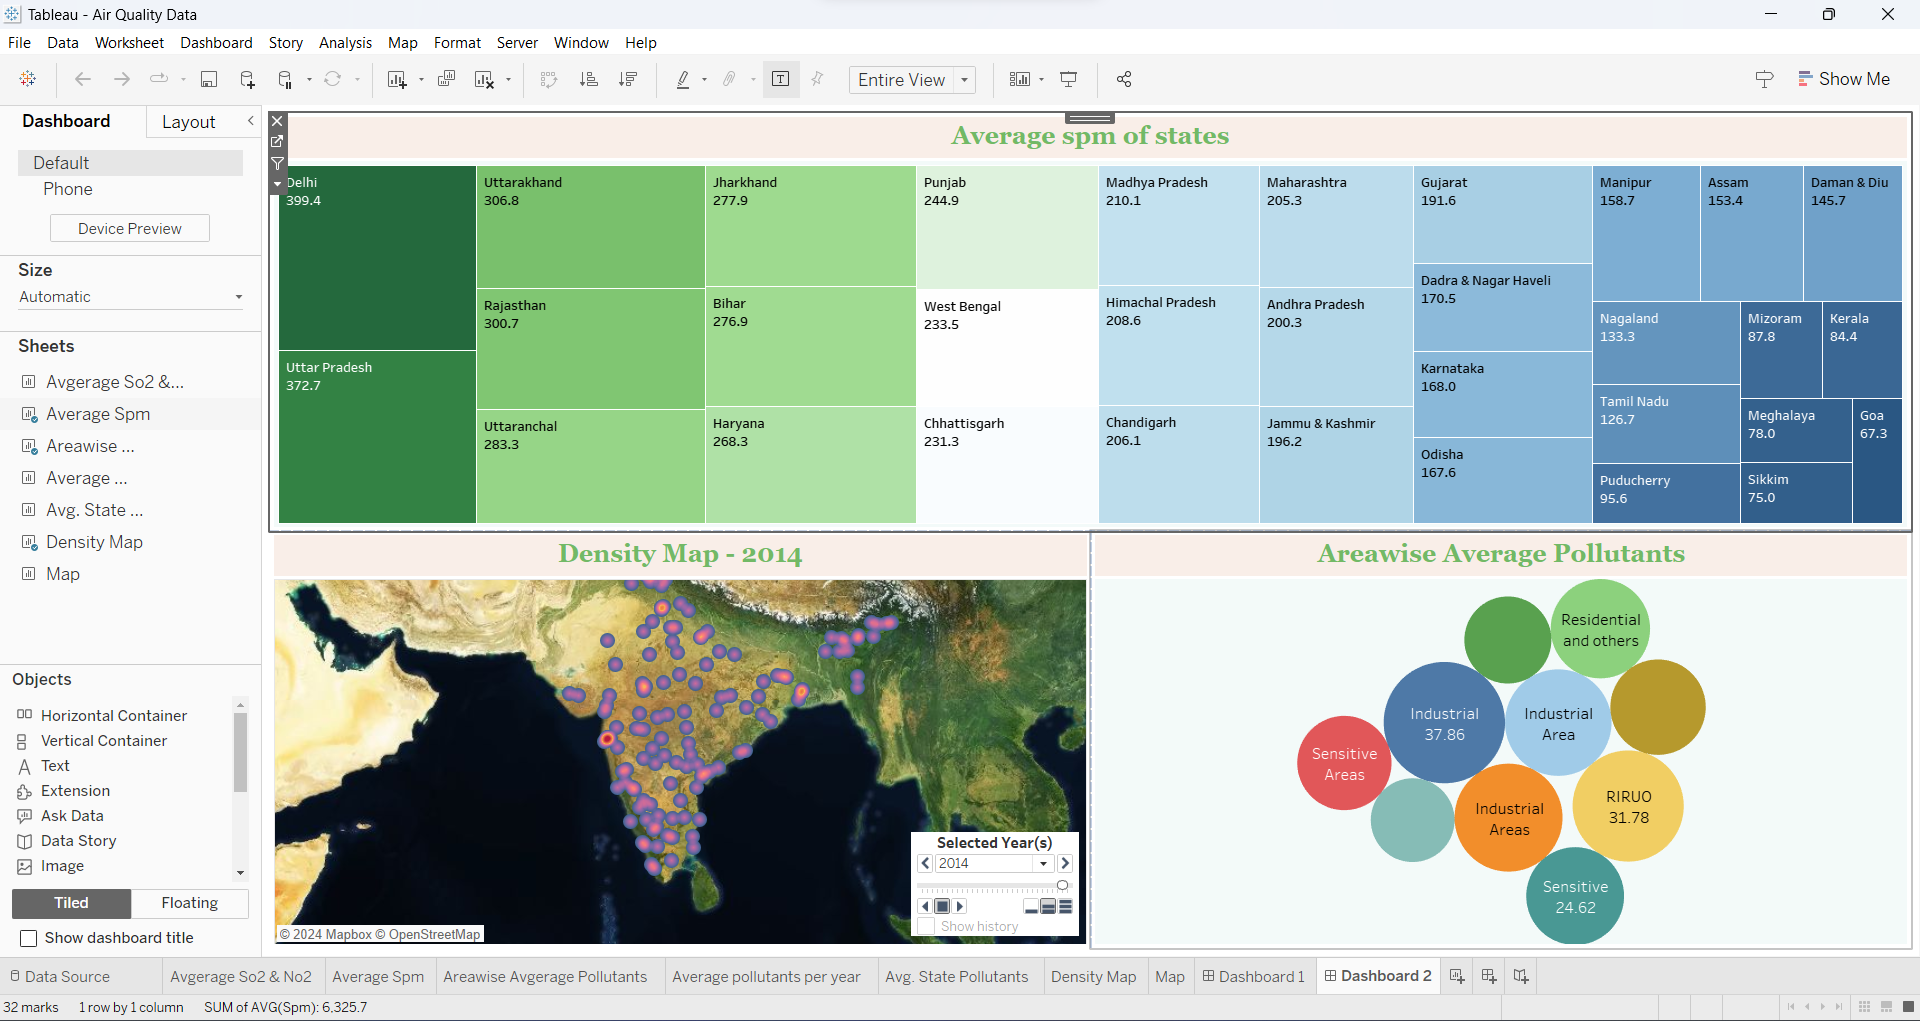

This screenshot's page, from the dashboard's own definition file:
{"tool":"tableau","page":{"name":"Dashboard 2","canvas":[1000,1000],"units":"permille","ordinal":1},"visuals":[{"type":"worksheet","title":"Average Spm","mark":"Automatic","box":[4.8,9.4,990.3,490.6]},{"type":"worksheet","title":"Density Map","mark":"Heatmap","box":[4.8,500,495.2,490.6]},{"type":"worksheet","title":"Areawise Avgerage Pollutants","mark":"Circle","box":[500,500,495.2,490.6]},{"type":"currpage","title":"Density Map","box":[391.7,854.8,101.4,122.5]}]}

Visuals, with their boxes on the dashboard's canvas, which has no fixed pixel size, in thousandths of its width and height (x1, y1, x2, y2). These are canvas units, not pixel positions in the 1920x1021 screenshot, which may show the page scaled, cropped or inside an application window:
"Average Spm" worksheet: box(5, 9, 995, 500)
"Density Map" worksheet (Heatmap marks): box(5, 500, 500, 991)
"Areawise Avgerage Pollutants" worksheet (Circle marks): box(500, 500, 995, 991)
"Density Map" currpage: box(392, 855, 493, 977)
